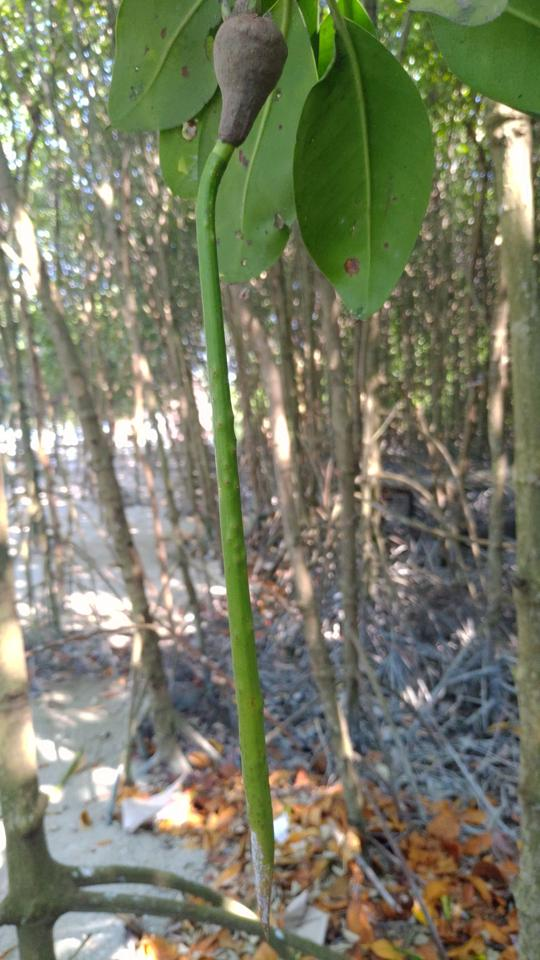setengah matang: (188, 3, 295, 944)
